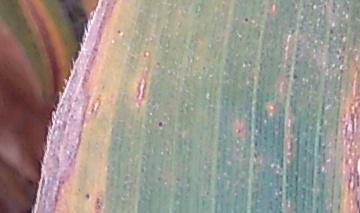tarspot: (84, 191, 92, 200), (157, 119, 164, 129), (243, 15, 249, 24), (292, 73, 299, 80), (116, 28, 122, 35), (329, 28, 334, 34), (238, 129, 243, 135)
